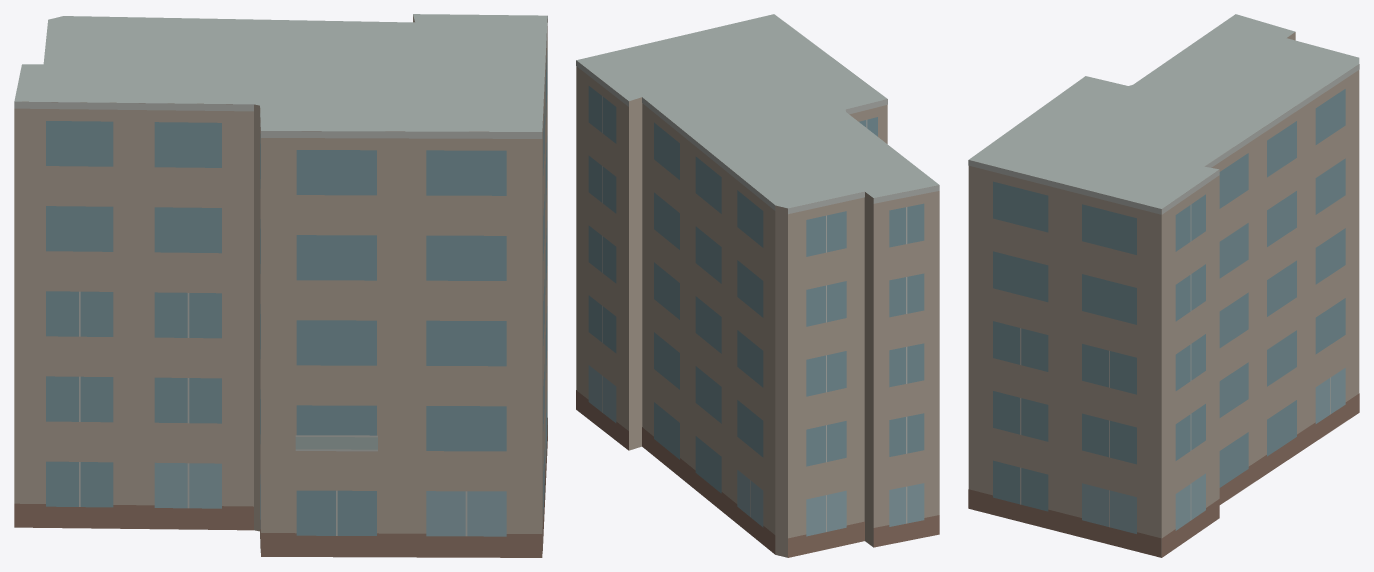
The model's file is survey-upis-32887336.glb.
3 renders of one model, left to right at view 1: azimuth 30°, elevation 25°; view 2: azimuth 150°, elevation 25°; view 3: azimuth 270°, elevation 25°, orthographic. The views are drawn at different scales.
Visible parts, largest first — view 1: survey-upis-32887336.tmp; view 2: survey-upis-32887336.tmp; view 3: survey-upis-32887336.tmp.
Part boxes in pixels (box(x1,y1,x2,y2)): survey-upis-32887336.tmp: box(14, 14, 547, 557); survey-upis-32887336.tmp: box(576, 14, 939, 557); survey-upis-32887336.tmp: box(968, 14, 1359, 557).
Size of the model in its own units: 17.76 by 14.8 by 15.04.
